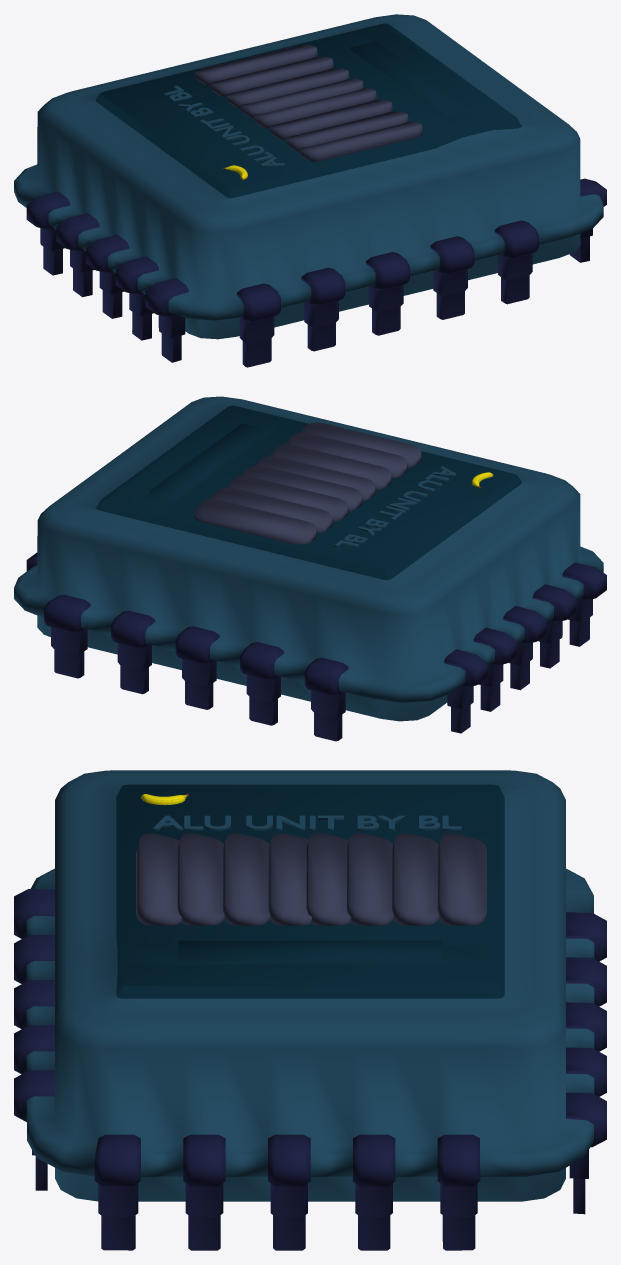
File: ALU.glb
3 renders of one model, top to bottom at view 1: azimuth 30°, elevation 25°; view 2: azimuth 150°, elevation 25°; view 3: azimuth 270°, elevation 25°, orthographic. The views are drawn at different scales.
Parts seen in each view (by area): view 1: Cube.001, Cube.004, Cube.003, Text; view 2: Cube.001, Cube.003, Cube.004, Text; view 3: Cube.001, Cube.003, Cube.004, Text.
Part boxes in pixels (x1,y1,x2,y2): Cube.001: (14, 14, 606, 367); Cube.004: (254, 88, 422, 161); Cube.003: (195, 45, 363, 118); Text: (163, 85, 285, 166); Cube.001: (14, 396, 606, 741); Cube.003: (194, 465, 363, 544); Cube.004: (255, 422, 422, 501); Text: (334, 466, 456, 547); Cube.001: (14, 770, 606, 1250); Cube.003: (306, 833, 486, 925); Cube.004: (136, 833, 312, 925); Text: (152, 815, 461, 830).
Size of the model in its own units: 1.77 by 0.6125 by 1.4.
Materials: 5 (1 with a texture image).
